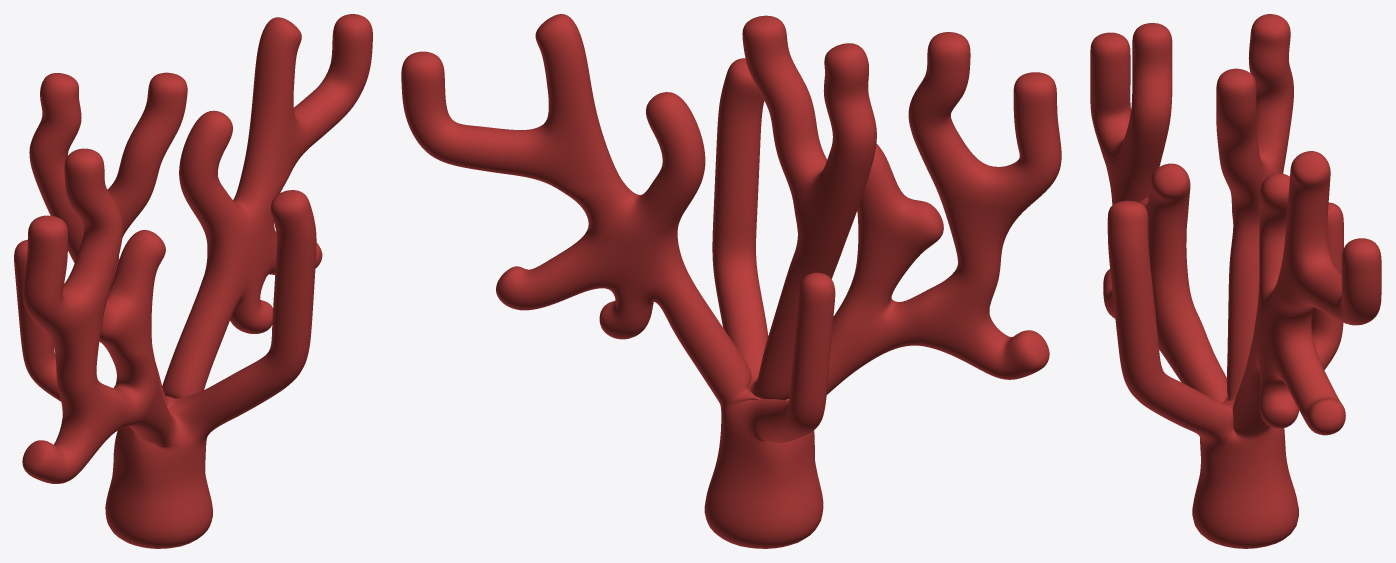
Rendered from coral 2.fbx.
3 renders of one model, left to right at view 1: azimuth 30°, elevation 25°; view 2: azimuth 150°, elevation 25°; view 3: azimuth 270°, elevation 25°, orthographic. The views are drawn at different scales.
Parts seen in each view (by area): view 1: Coral 2; view 2: Coral 2; view 3: Coral 2.
Boxes of the visible parts, <box> form: Coral 2: <box>14,14,372,548</box>; Coral 2: <box>401,14,1061,548</box>; Coral 2: <box>1090,14,1381,548</box>.
Size of the model in its own units: 163 by 158 by 87.22.
